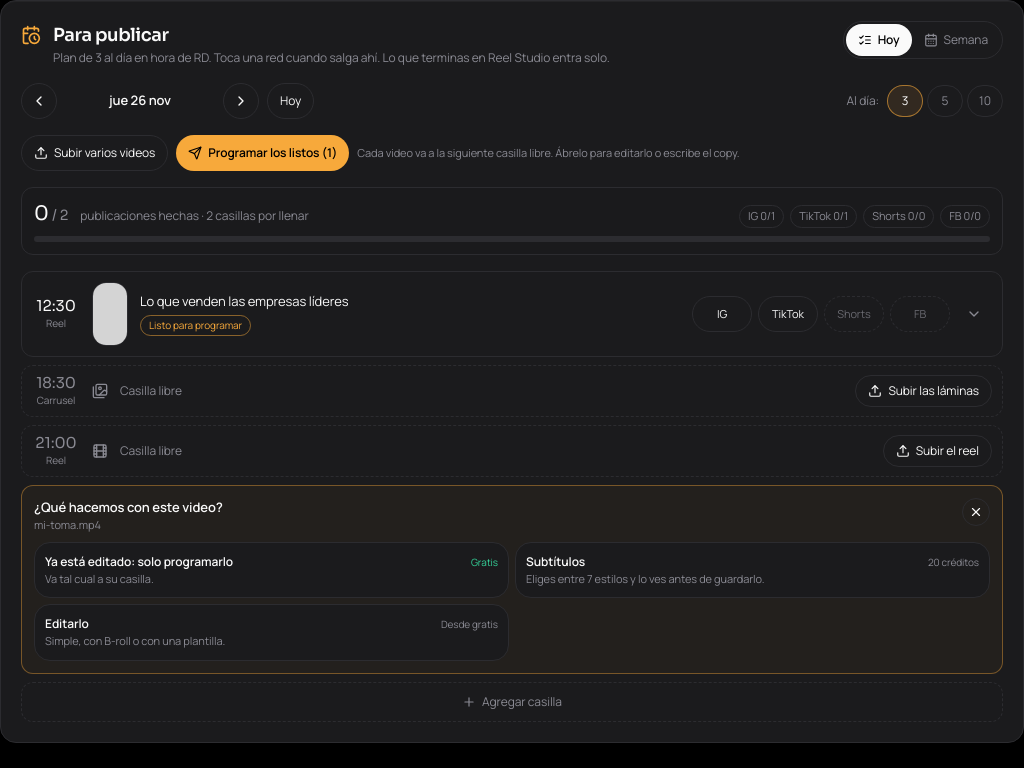
Test case: Para publicar › al subir un reel pregunta qué hacer: solo programar, subtítulos o editar (simple, con B-roll o plantilla)
Earlier steps of the test are not shown.
Expected: the text "¿Qué hacemos con este video?" is shown, x1=34 y1=498 x2=223 y2=516
Expected: the button "Subtítulos" is shown, x1=515 y1=542 x2=990 y2=598
Step 1. Click the button "Editarlo" → [67, 624], box x1=34 y1=604 x2=509 y2=660
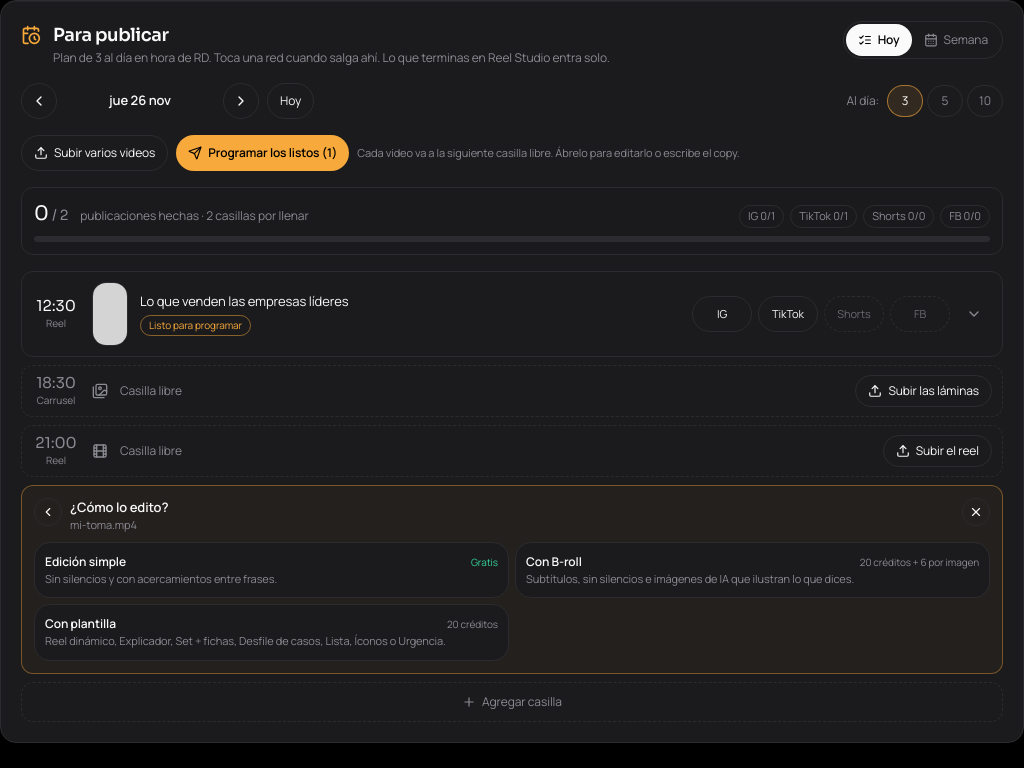
Now the button "Edición simple" is shown, box x1=34 y1=542 x2=509 y2=598
